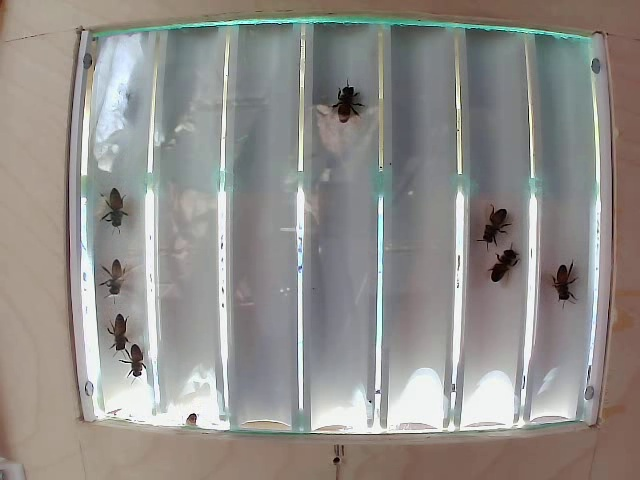bee: (322, 75, 374, 143), (473, 194, 519, 252), (123, 337, 153, 387), (100, 310, 133, 355), (546, 260, 577, 301), (100, 254, 128, 298), (486, 236, 513, 280), (107, 190, 127, 238)
